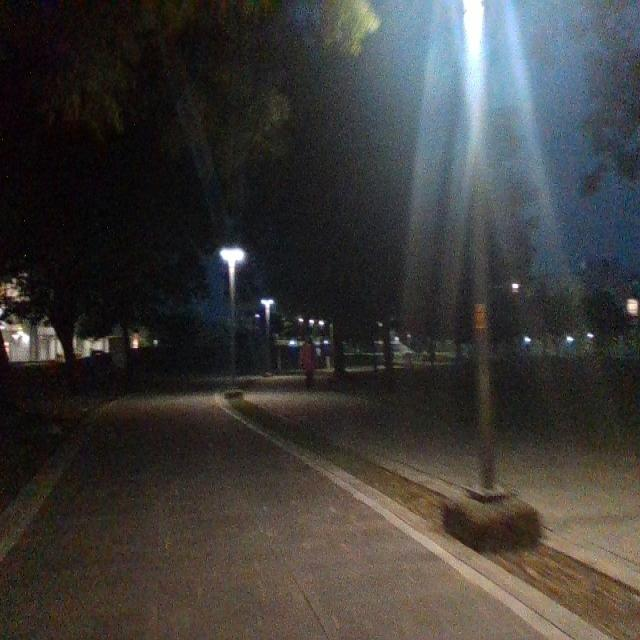lane: (3, 398, 548, 638)
